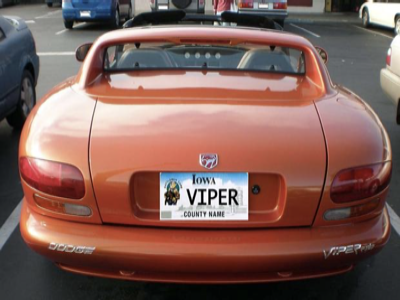licence: (160, 171, 249, 221)
